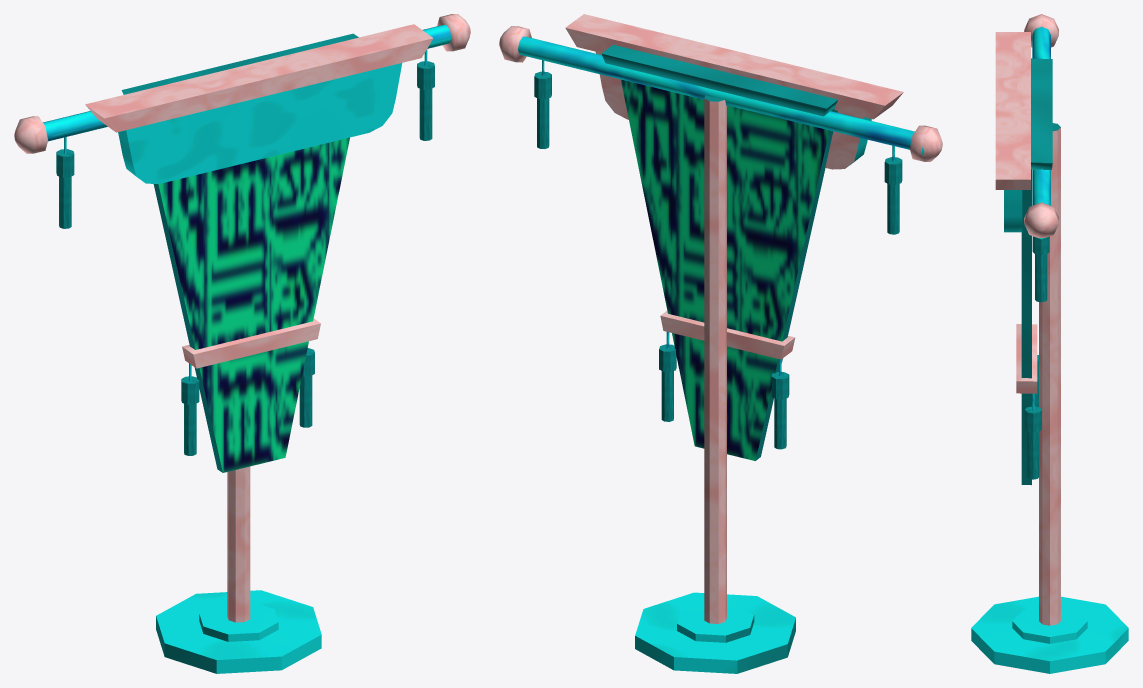
Rendered from SM_Flag_01.fbx.
The picture shows the model from 3 angles, left to right: view 1: azimuth 30°, elevation 25°; view 2: azimuth 150°, elevation 25°; view 3: azimuth 270°, elevation 25°; orthographic projection. The views are drawn at different scales.
Parts seen in each view (by area): view 1: pCube69, pCube53, pCylinder15, pCylinder16, SM_Froufous_02, SM_Froufous_01, SM_Froufous_04, pCylinder18, SM_Froufous_03, pCylinder17; view 2: pCube69, pCylinder15, pCube53, pCylinder16, SM_Froufous_04, SM_Froufous_01, SM_Froufous_03, SM_Froufous_02, pCylinder18, pCylinder17; view 3: pCylinder15, pCube53, pCube69, pCylinder16, SM_Froufous_03, pCylinder17, SM_Froufous_02, pCylinder18.
Part boxes in pixels (box(x1,y1,x2,y2)): pCube69: box(121, 33, 358, 472); pCube53: box(85, 24, 433, 183); pCylinder15: box(156, 466, 321, 673); pCylinder16: box(43, 25, 451, 141); SM_Froufous_02: box(417, 49, 434, 140); SM_Froufous_01: box(56, 137, 74, 228); SM_Froufous_04: box(181, 363, 199, 455); pCylinder18: box(14, 116, 47, 153); SM_Froufous_03: box(299, 348, 314, 427); pCylinder17: box(437, 14, 470, 51); pCube69: box(601, 44, 837, 460); pCylinder15: box(635, 95, 795, 673); pCube53: box(565, 14, 903, 169); pCylinder16: box(518, 36, 914, 149); SM_Froufous_04: box(771, 359, 789, 449); SM_Froufous_01: box(884, 145, 902, 234); SM_Froufous_03: box(659, 332, 676, 421); SM_Froufous_02: box(534, 60, 551, 148); pCylinder18: box(910, 125, 942, 161); pCylinder17: box(499, 26, 531, 62); pCylinder15: box(971, 123, 1128, 673); pCube53: box(995, 32, 1030, 232); pCube69: box(1016, 58, 1052, 485); pCylinder16: box(1032, 27, 1050, 205); SM_Froufous_03: box(1024, 393, 1041, 479); pCylinder17: box(1024, 202, 1058, 239); SM_Froufous_02: box(1032, 236, 1049, 302); pCylinder18: box(1024, 14, 1058, 47).
Bounding box in the file's own units: 6.83 × 8.35 × 2.23.
Materials: 1 (1 with a texture image).
